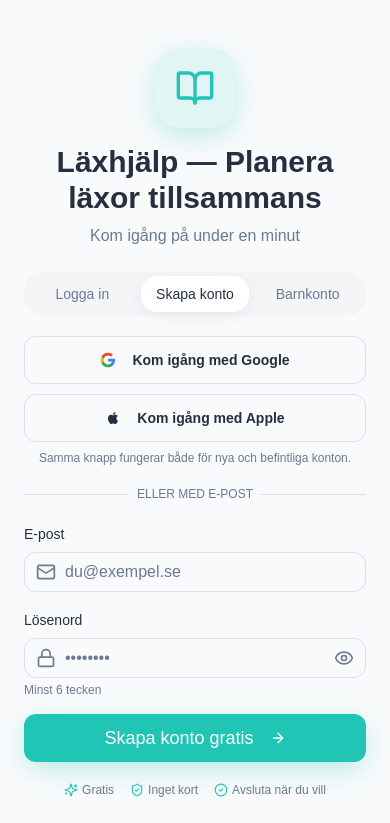
it: AuthPage › shows 'check inbox' screen when signup requires email confirmation
This screenshot has width=390, height=823.
Step 1. Type "v@x.se" into the field with placeholder "du@exempel.se" → x=195, y=572, box top-left (24, 552), bottom-right (366, 592)
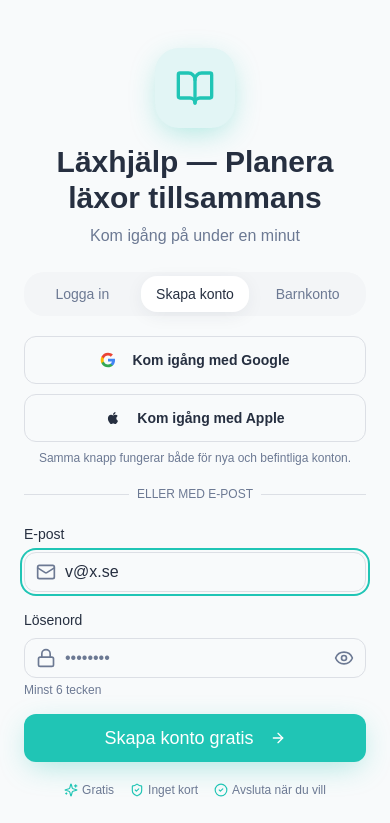
Step 2. Type "secret123" into the password field with placeholder "••••••••" → x=195, y=658, box top-left (24, 638), bottom-right (366, 678)
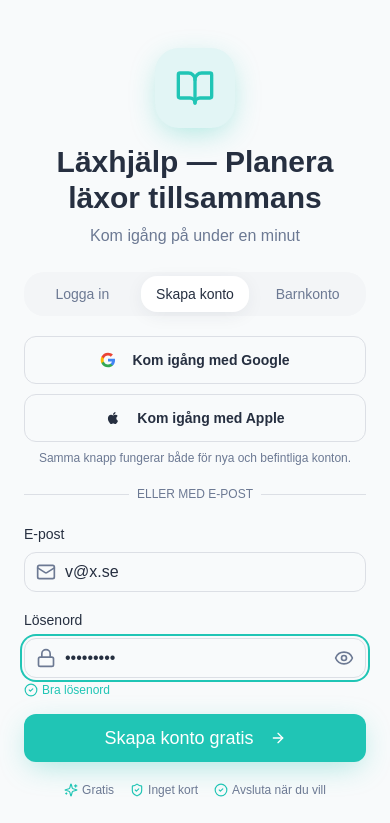
Step 3. Click the submit button → x=195, y=738, box top-left (24, 714), bottom-right (366, 762)
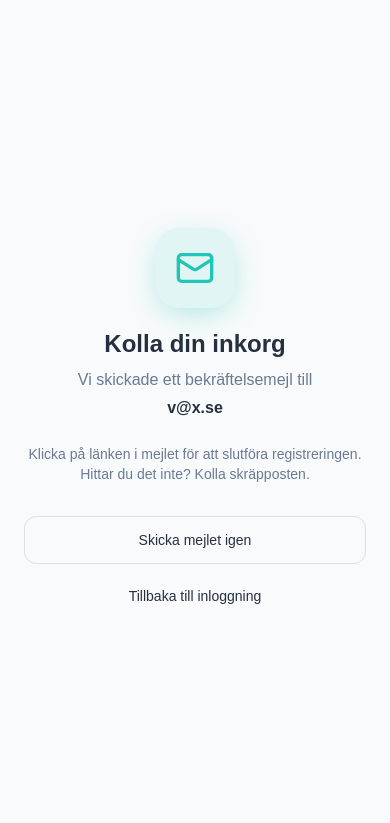
Check: the heading "Kolla din inkorg" is shown, box top-left (104, 330), bottom-right (286, 357)
